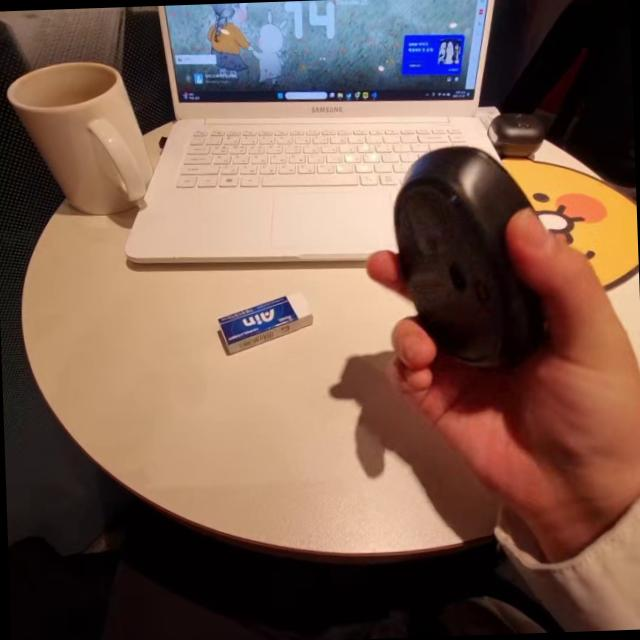eraser: (216, 296, 324, 364)
grab_mouse: (382, 156, 640, 523)
mouse: (411, 130, 561, 380)
